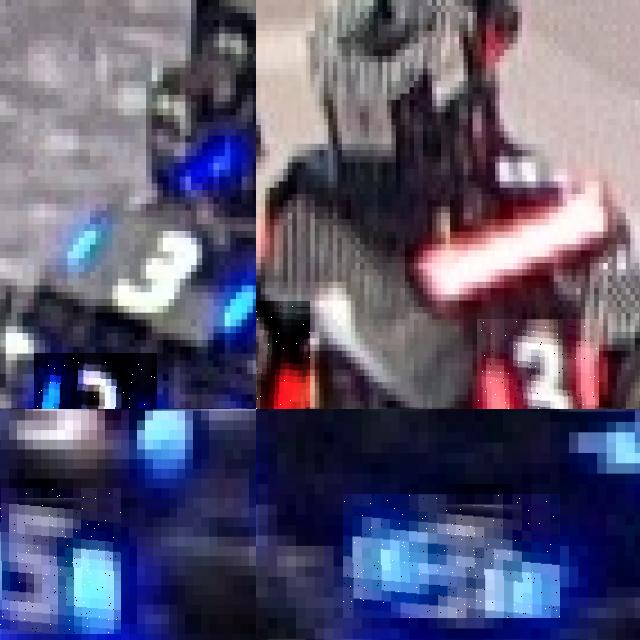B3: (343, 494, 560, 618), (33, 353, 157, 409)
B5: (0, 488, 121, 633)
R3: (477, 319, 598, 409), (256, 300, 310, 409)
